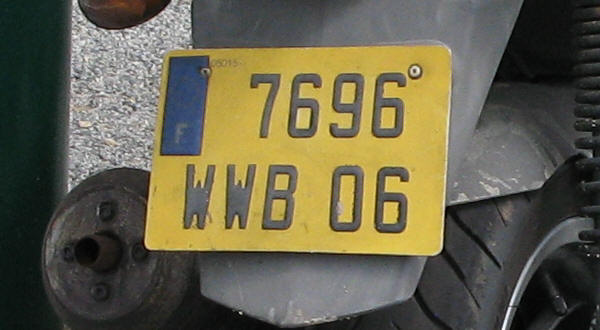license_plate: (144, 43, 452, 255)
